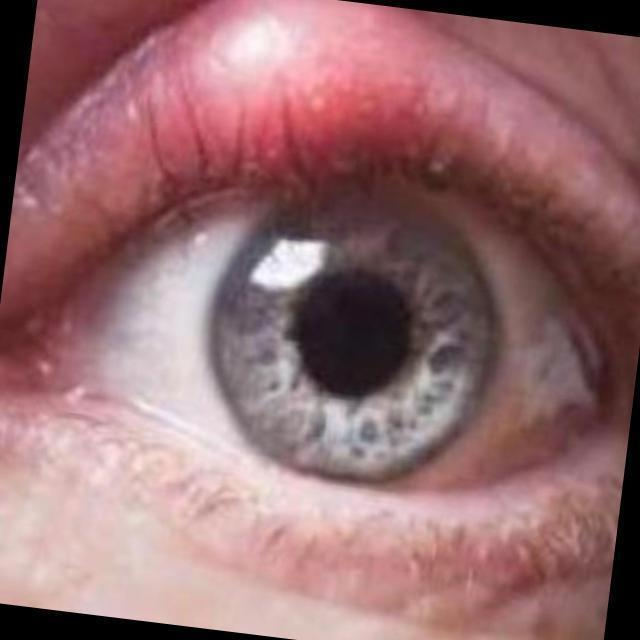Stye: (103, 0, 519, 316)
